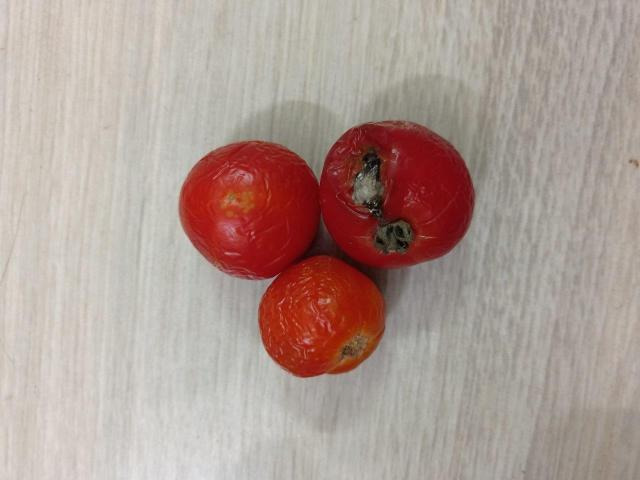defect: (318, 116, 479, 270), (175, 136, 323, 282), (255, 255, 386, 378)
